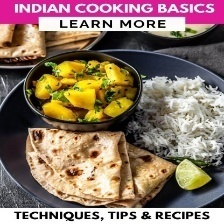sabzi: (27, 57, 138, 121)
